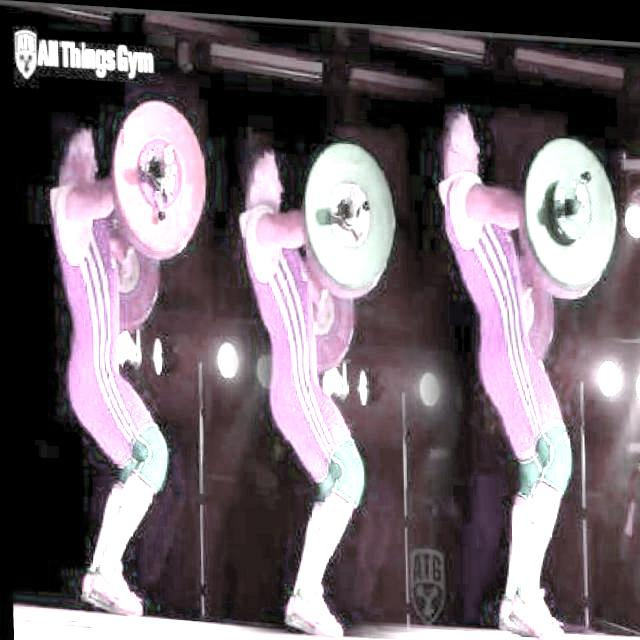barbell: (111, 91, 210, 257), (520, 125, 620, 286), (301, 135, 397, 291)
